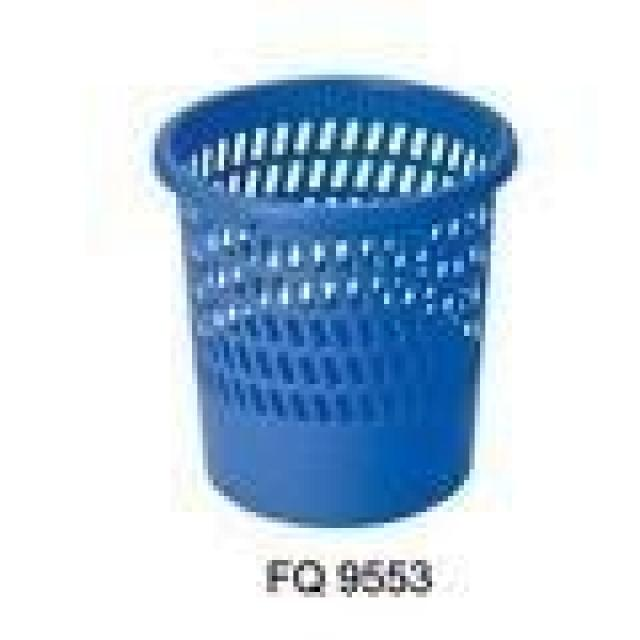dustbin: (142, 66, 523, 533)
